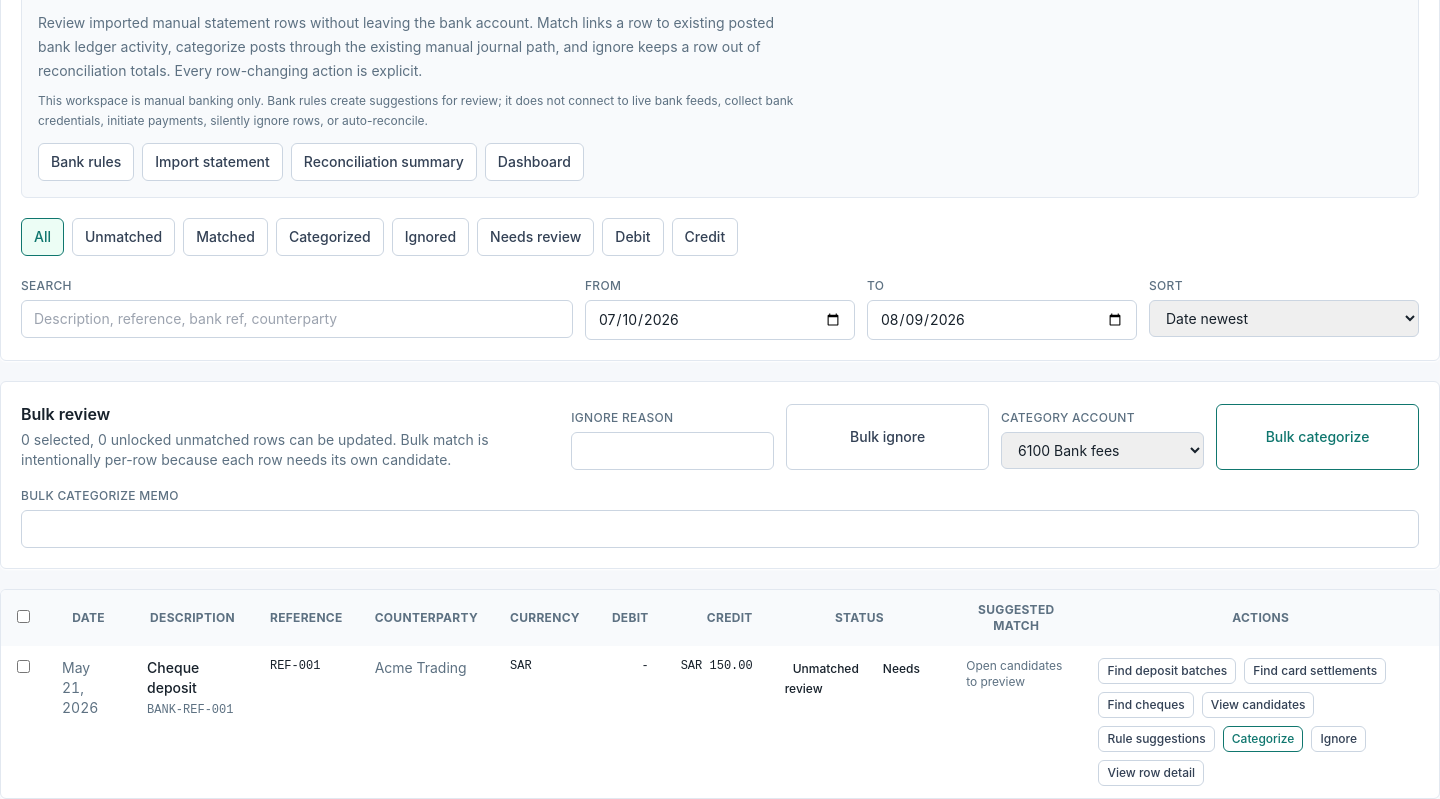
BankStatementTransactionsPage › loads cheque candidates without auto-matching statement rows
The image size is (1440, 799).
(page scrolled)
Click the button "Find cheques": coordinates (1146, 705) x1=1098 y1=692 x2=1194 y2=718
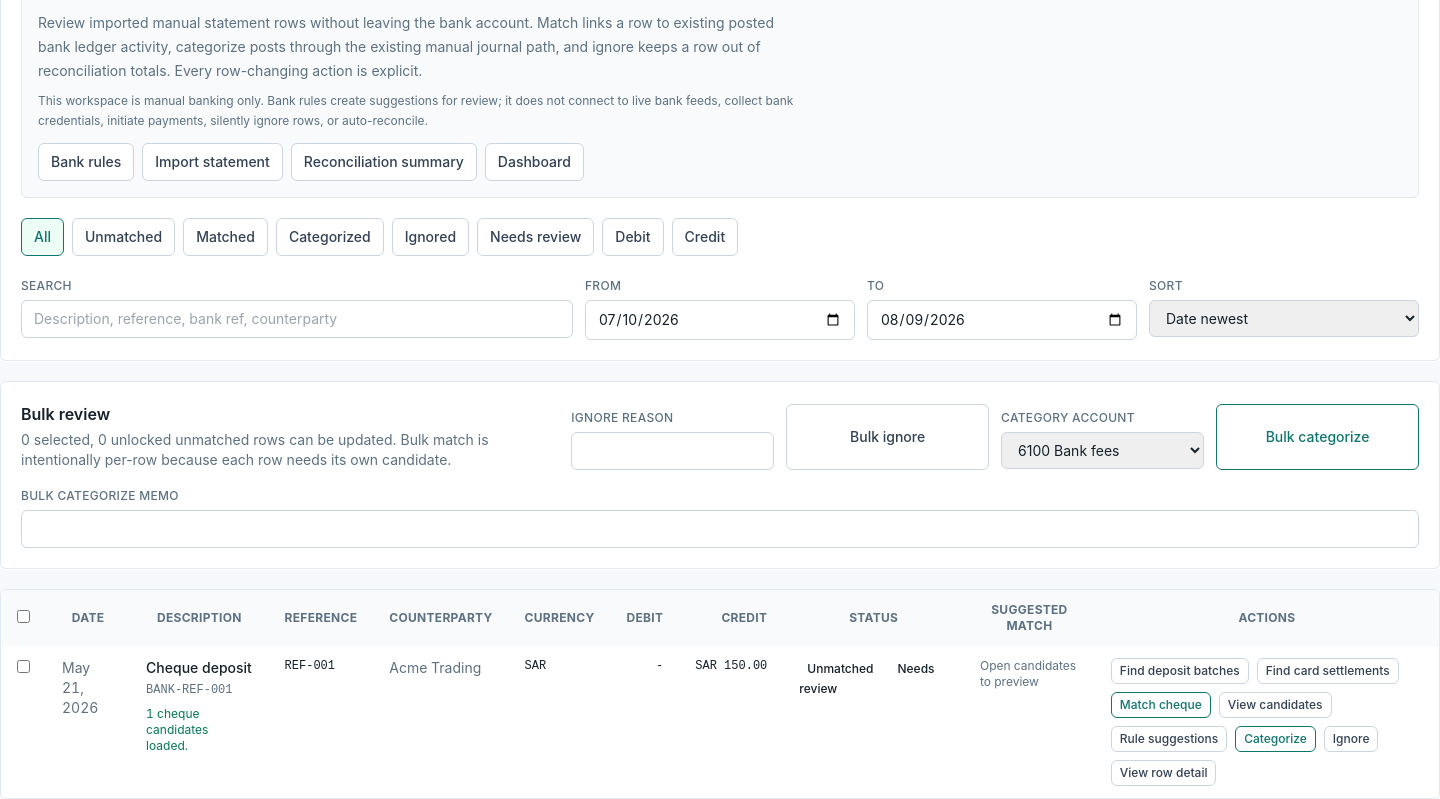
Now the text "1 cheque candidates loaded." is shown, box x1=146 y1=706 x2=208 y2=753
